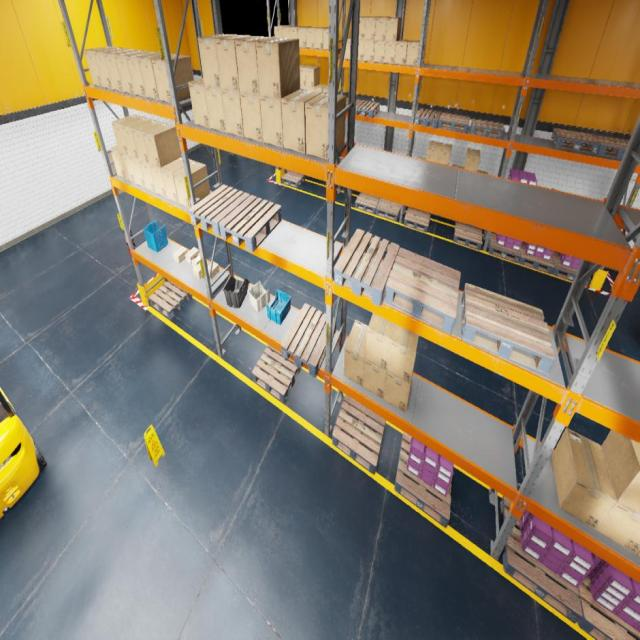box: (552, 428, 616, 530), (596, 445, 640, 554), (602, 430, 640, 514), (305, 93, 346, 159), (256, 37, 300, 98), (282, 89, 322, 154), (235, 36, 277, 95), (216, 35, 257, 91), (198, 34, 238, 88), (152, 54, 194, 104), (384, 350, 417, 412), (386, 323, 418, 384), (142, 122, 182, 168), (173, 160, 210, 208), (138, 53, 175, 100), (343, 319, 368, 387), (366, 313, 395, 371), (114, 50, 150, 94), (104, 48, 140, 92), (126, 52, 160, 97), (161, 157, 193, 204), (94, 48, 130, 89), (132, 120, 165, 163), (85, 46, 119, 86), (121, 117, 153, 159), (112, 114, 144, 156), (260, 95, 284, 148), (221, 89, 244, 137), (240, 92, 262, 142), (188, 78, 210, 128), (204, 86, 226, 132), (363, 360, 388, 400), (150, 164, 167, 198), (139, 160, 156, 193), (129, 156, 146, 188), (110, 145, 126, 179), (120, 152, 136, 184), (394, 40, 411, 64), (464, 148, 480, 172), (385, 17, 401, 41), (364, 17, 379, 40), (406, 40, 419, 66), (426, 141, 441, 163), (375, 17, 388, 41), (438, 143, 452, 165), (314, 28, 329, 48), (306, 66, 319, 87), (191, 249, 205, 268), (306, 26, 318, 48), (384, 41, 396, 63), (374, 40, 385, 63), (298, 27, 310, 48), (174, 246, 188, 263), (185, 247, 199, 264), (192, 264, 208, 278), (300, 64, 310, 86), (364, 40, 374, 62), (274, 25, 289, 38), (359, 16, 367, 40), (208, 262, 219, 279), (282, 25, 294, 38), (290, 26, 302, 38), (344, 37, 350, 59), (323, 28, 329, 49), (358, 40, 364, 60), (314, 84, 327, 92), (322, 85, 328, 93), (477, 170, 488, 174), (452, 165, 464, 168), (306, 86, 314, 90), (636, 550, 640, 556), (418, 157, 427, 159), (300, 86, 306, 89)
forklift: (0, 387, 47, 518)
pallets: (500, 496, 583, 624), (462, 283, 556, 377), (385, 248, 461, 334), (394, 432, 452, 528), (334, 229, 400, 306), (332, 394, 386, 475), (282, 303, 336, 377), (577, 576, 640, 639), (219, 195, 281, 252), (188, 184, 250, 236), (252, 345, 301, 403), (149, 280, 192, 319), (551, 252, 591, 286), (552, 128, 600, 154), (519, 242, 554, 274), (488, 233, 521, 263), (592, 134, 629, 159), (453, 222, 482, 250), (471, 118, 505, 140), (438, 111, 470, 132), (404, 208, 430, 232), (415, 108, 442, 129), (376, 198, 400, 221), (355, 192, 380, 214), (355, 100, 380, 118), (282, 171, 305, 188), (346, 98, 361, 107), (336, 156, 344, 162)
